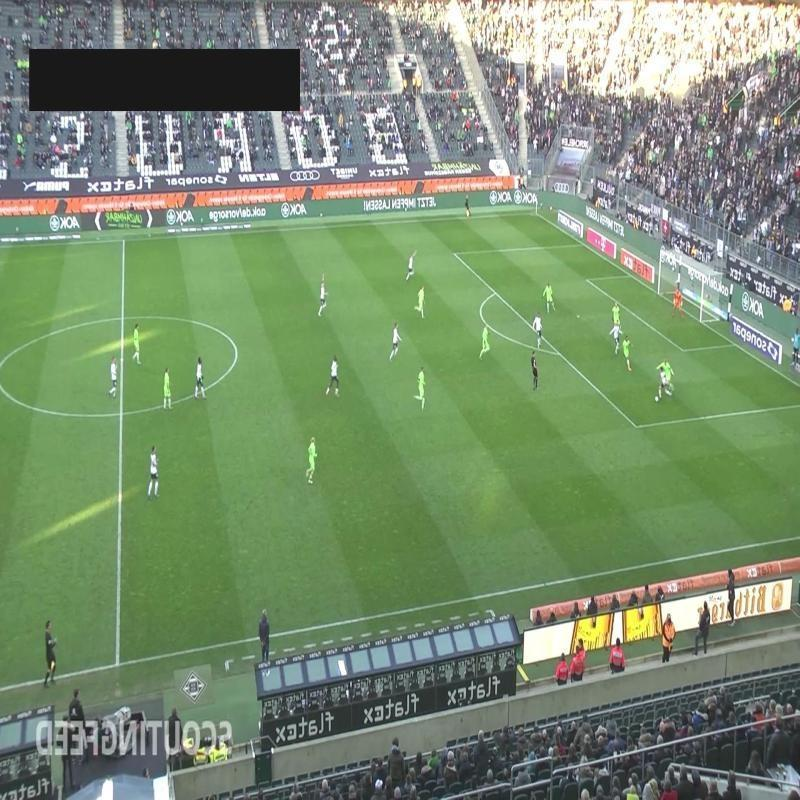1: (528, 206, 542, 219)
10: (487, 284, 501, 297)
11: (551, 344, 565, 358)
12: (628, 418, 643, 432)
13: (116, 232, 131, 246)
14: (116, 310, 130, 324)
15: (114, 406, 128, 420)
16: (110, 656, 124, 670)
2: (574, 237, 589, 250)
3: (622, 267, 636, 281)
4: (727, 336, 741, 350)
7: (578, 272, 593, 286)
8: (676, 342, 690, 356)
9: (447, 245, 461, 259)
c: (230, 344, 244, 361)
